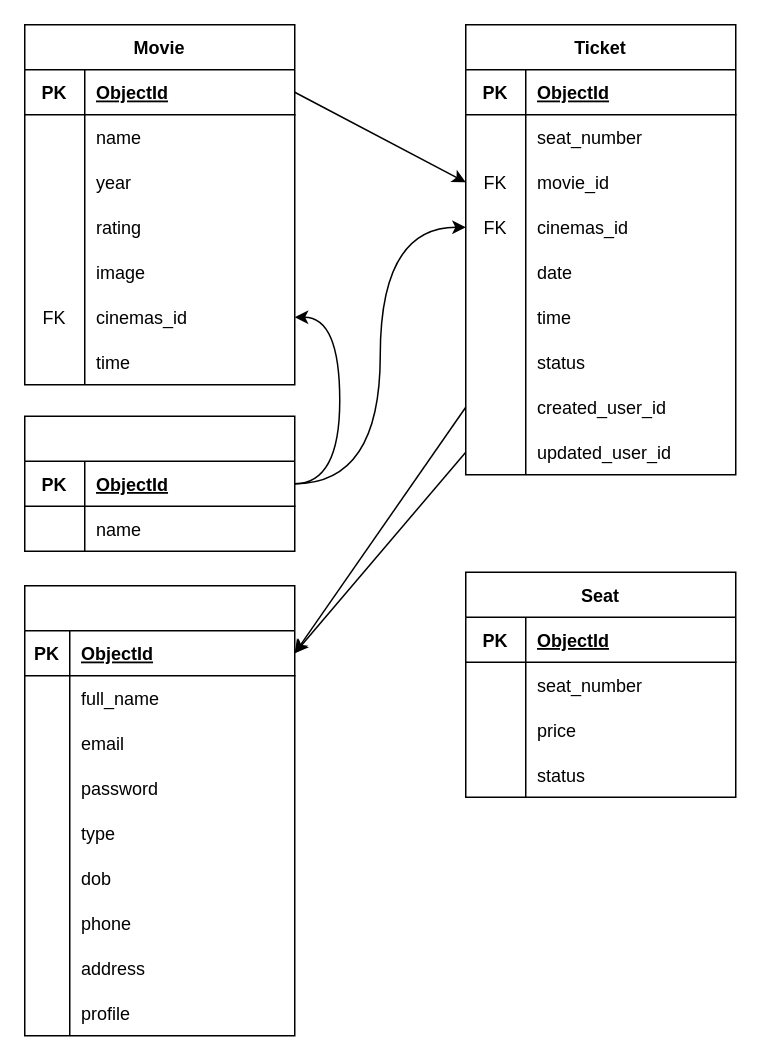
The diagram is 761 pixels wide and 1061 high, and some of its shapes have lost their labels. The shapes that lost their labels are listed below. From the top down, each one's box as (x1, y1, x2, y2) in pixels, then its label:
(23, 415, 295, 551): Cinamas
(23, 584, 295, 1036): User
